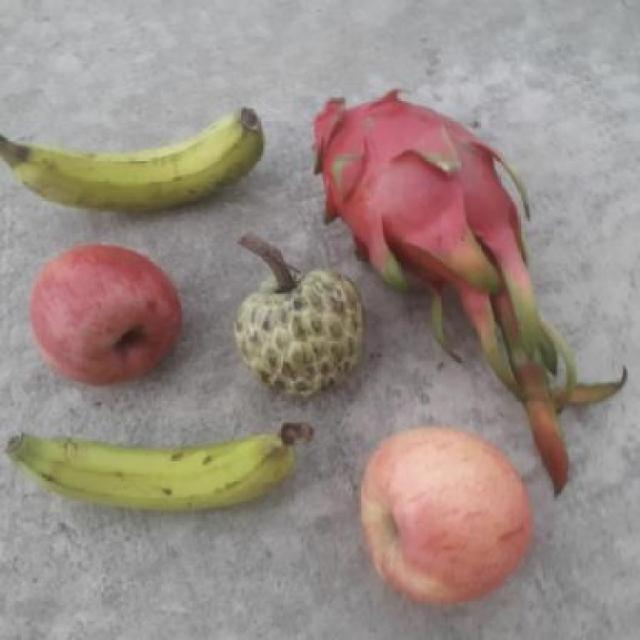apple: (349, 424, 537, 611), (14, 241, 189, 401)
banana: (0, 98, 271, 215), (0, 416, 314, 512)
dragon fruit: (303, 85, 534, 310)
sugar apple: (231, 266, 371, 402)
